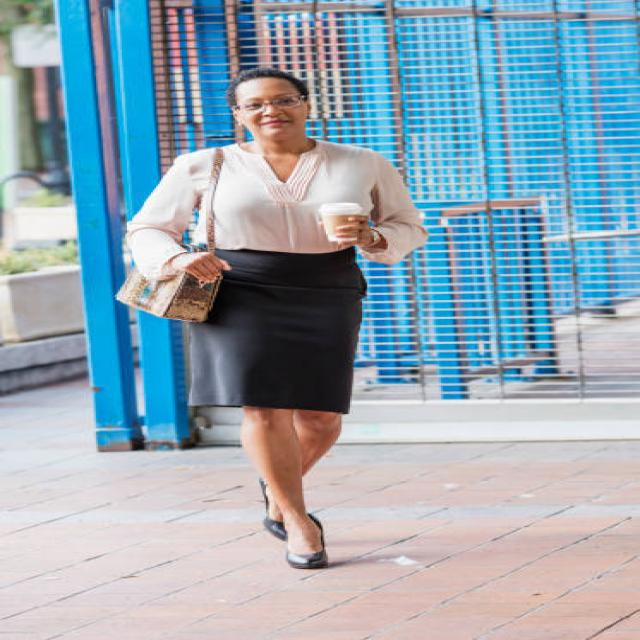Real human 2: (101, 57, 448, 573)
